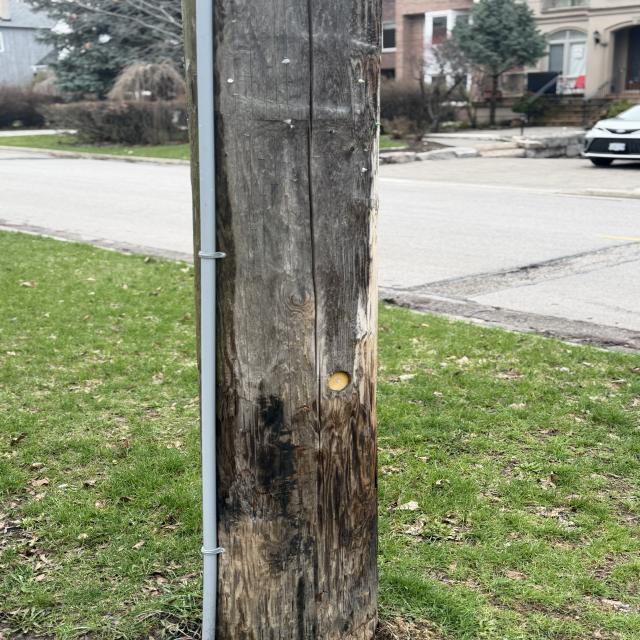Electrical Pole: (183, 2, 392, 639)
